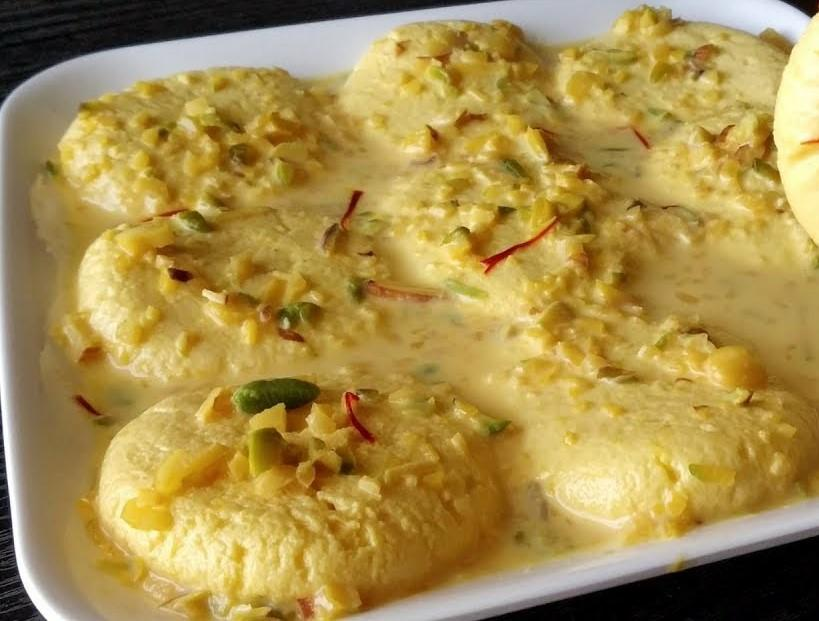RasMalai: (48, 3, 819, 621)
